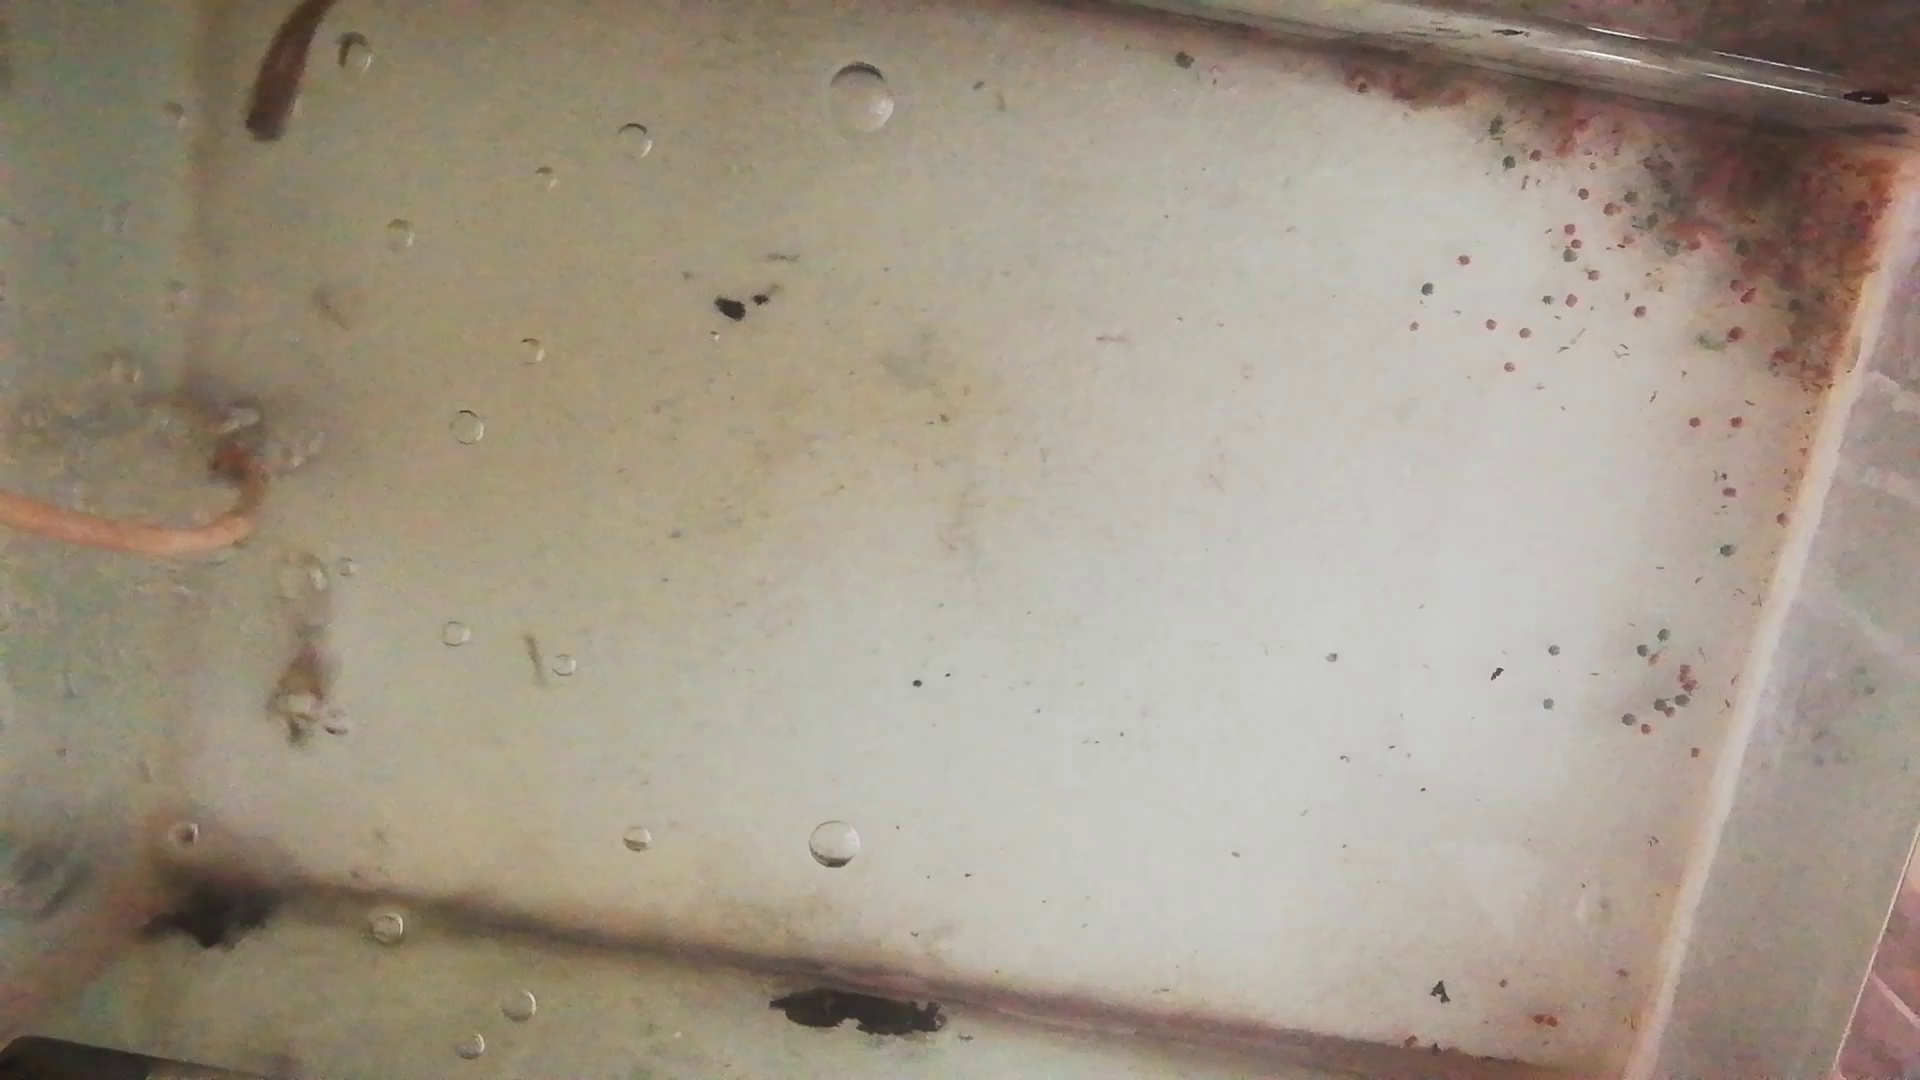fish: (245, 4, 334, 146), (268, 558, 327, 746)
